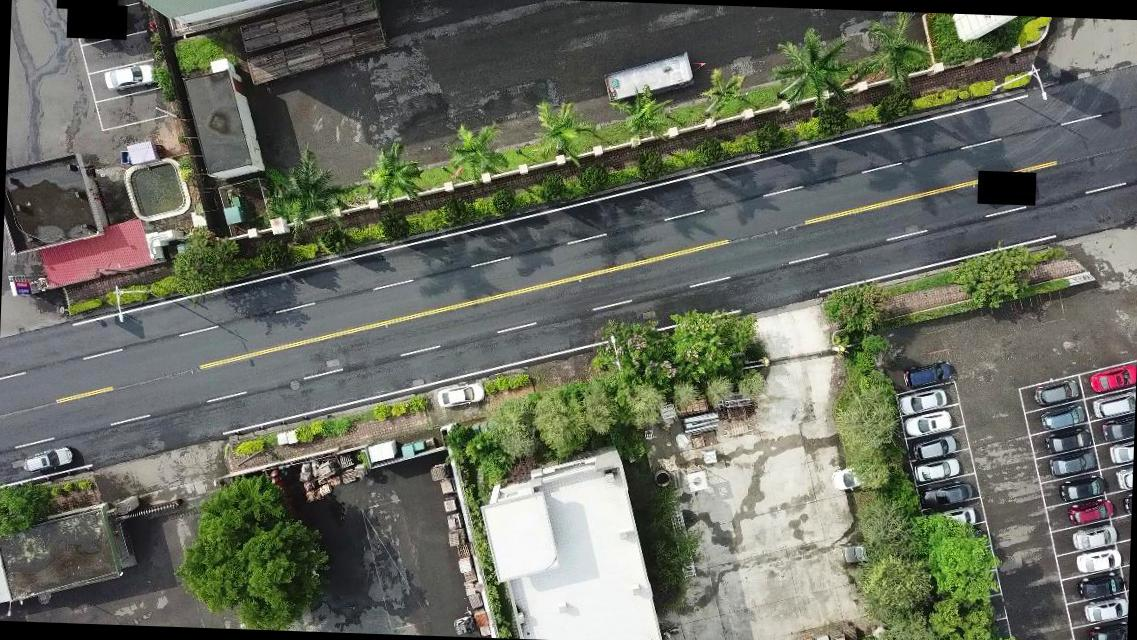vehicle: (102, 60, 158, 92), (18, 445, 75, 476), (434, 379, 486, 412), (899, 358, 953, 388), (918, 482, 972, 511), (1074, 570, 1126, 600), (912, 455, 962, 486), (1091, 386, 1134, 422), (1058, 475, 1109, 505), (1033, 377, 1079, 410), (904, 410, 954, 440), (911, 433, 956, 466), (1069, 522, 1115, 554), (1087, 362, 1135, 392), (898, 388, 949, 416), (1072, 548, 1122, 576), (1047, 449, 1095, 478), (1038, 404, 1086, 432), (1044, 428, 1092, 456), (1082, 596, 1126, 624), (1068, 500, 1113, 526), (828, 466, 864, 494), (838, 538, 871, 566), (1100, 418, 1133, 443), (942, 506, 976, 527), (1087, 623, 1127, 639), (1106, 441, 1132, 465), (1114, 468, 1132, 491)
